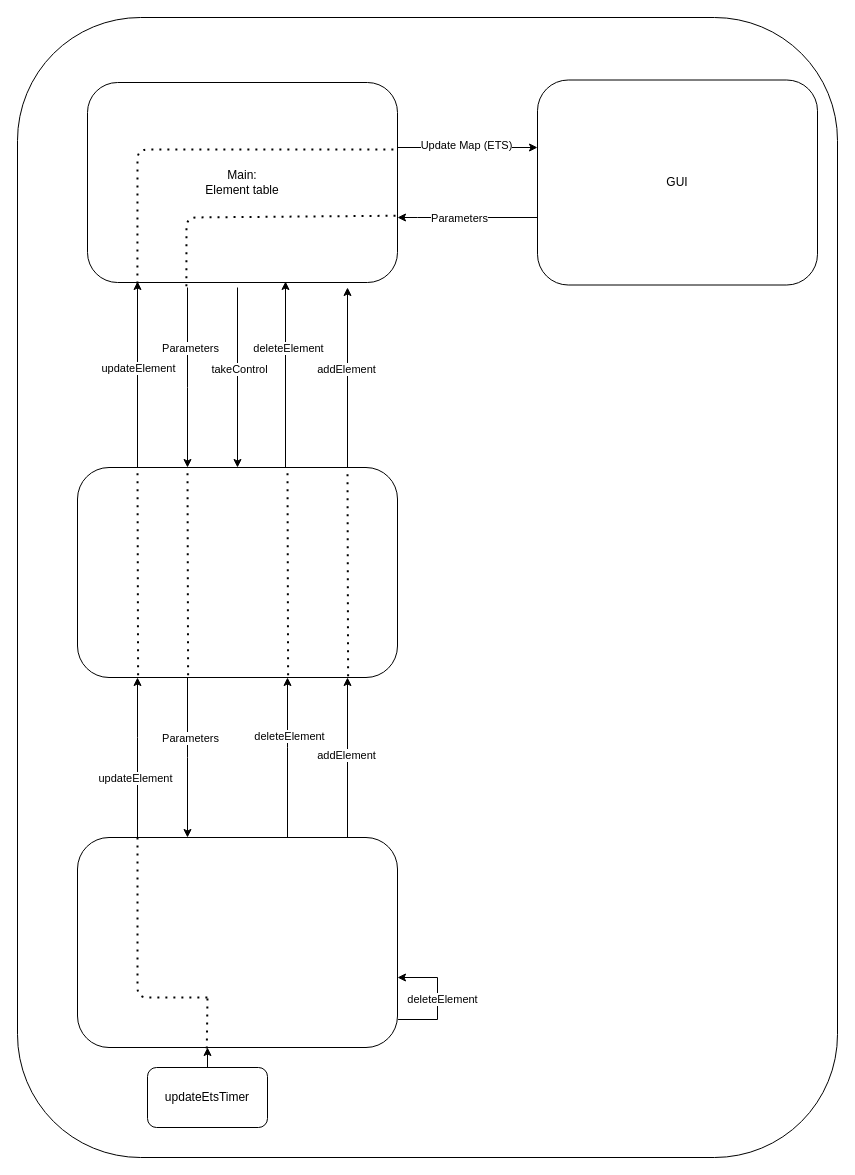
This 855x1175 diagram has some shape labels left out. The centre of each missing label's shape, as x and y in pixels:
"Element:" belongs at point 237,942.
"QNode: Element Table" belongs at point 237,572.
